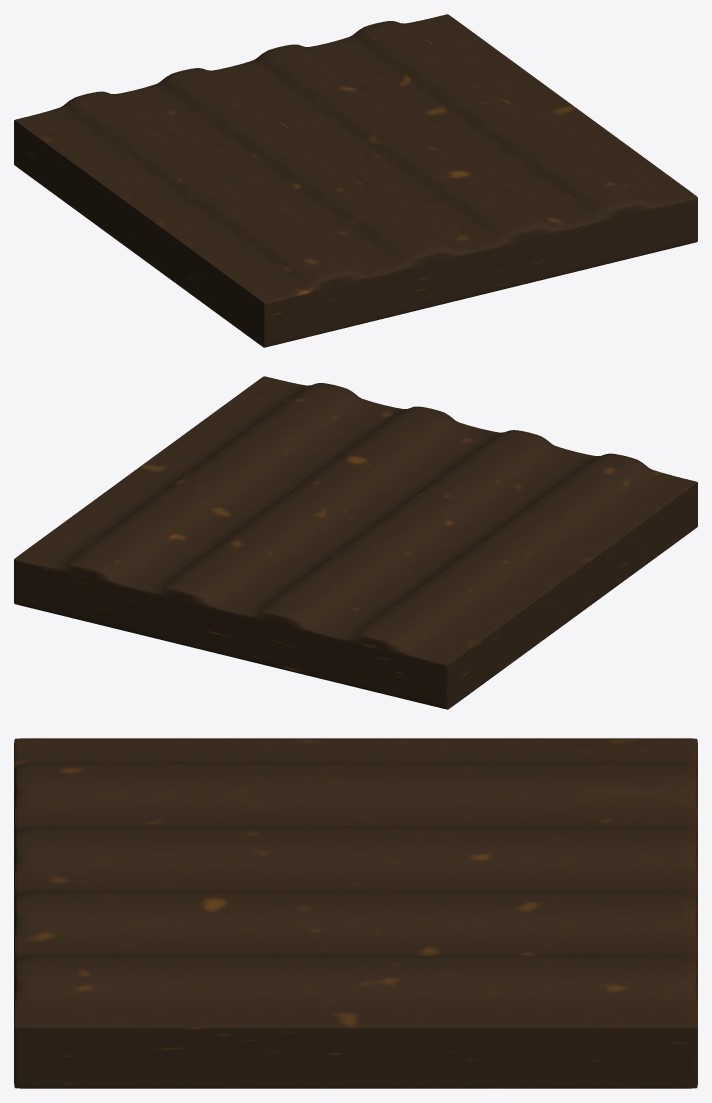
Rendered from CropPlot.fbx.
The picture shows the model from 3 angles, top to bottom: view 1: azimuth 30°, elevation 25°; view 2: azimuth 150°, elevation 25°; view 3: azimuth 270°, elevation 25°; orthographic projection. The views are drawn at different scales.
Parts seen in each view (by area): view 1: CropPlot; view 2: CropPlot; view 3: CropPlot.
Boxes of the visible parts, box(x1,y1,x2,y2) form: CropPlot: box(14, 14, 697, 347); CropPlot: box(14, 376, 697, 709); CropPlot: box(14, 738, 697, 1088).
Bounding box in the file's own units: 200 × 24.23 × 200.
